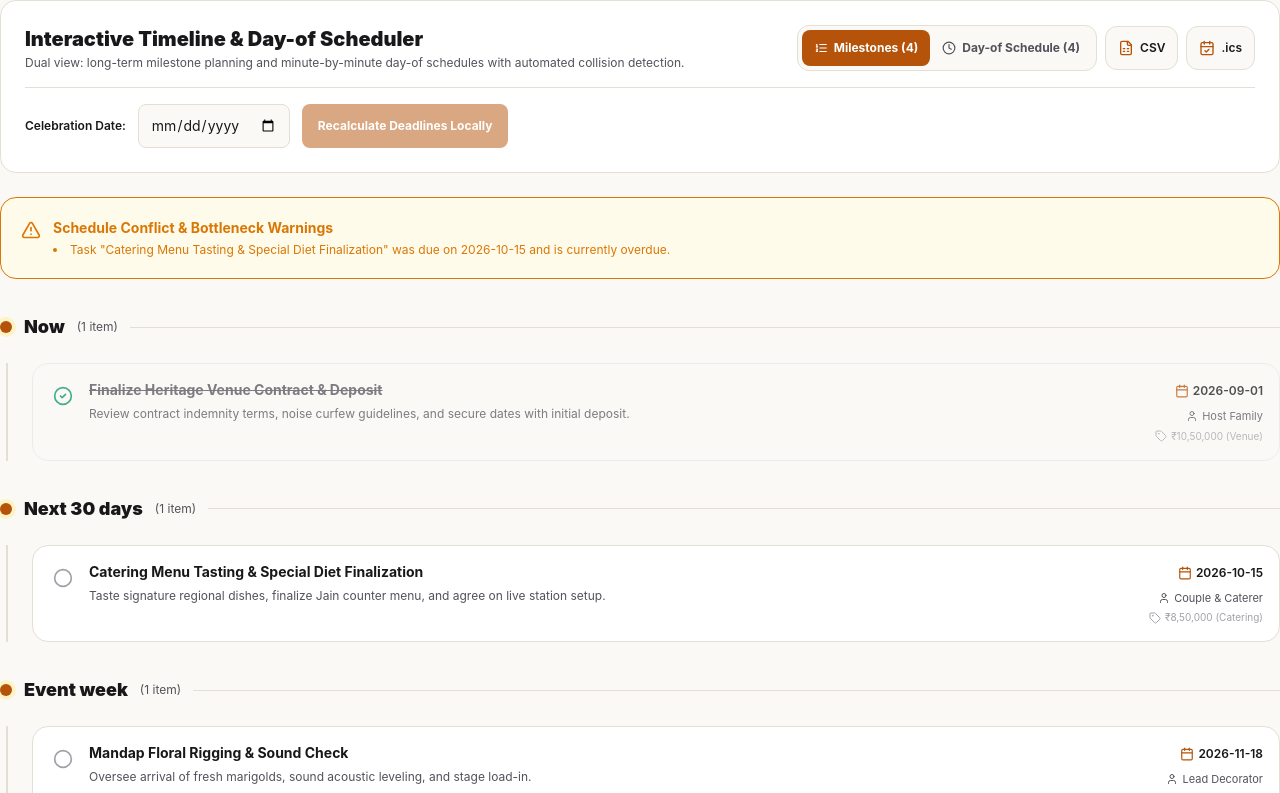
Test case: Workspace Tab Components Flow › toggles between Milestones and Day-of Run-of-Show in TabTimeline
Expected: the button "Milestones (4)" is shown, [802,30,930,66]
Click the button "Day-of Schedule (4)" at (1011,48), box [930,30,1092,66]
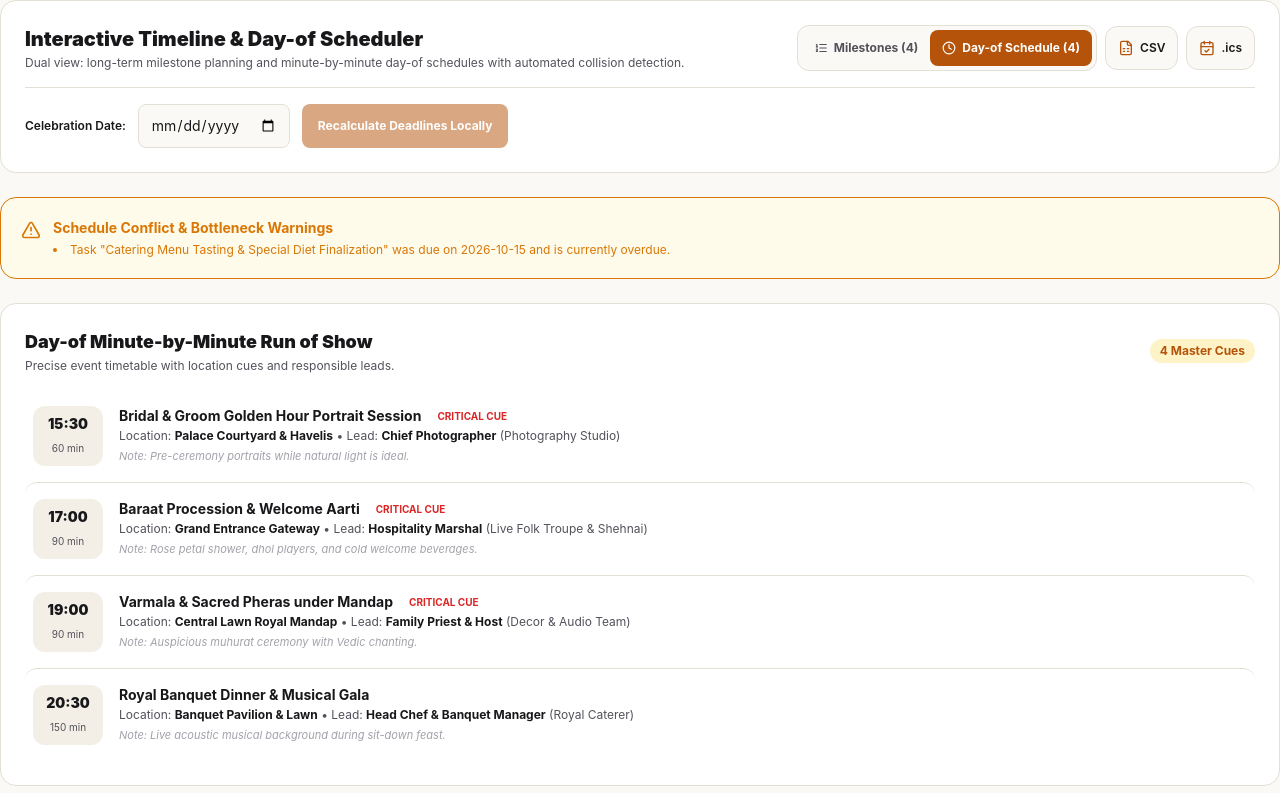
Now the heading "Day-of Minute-by-Minute Run of Show" is shown, box [25,328,394,356]
